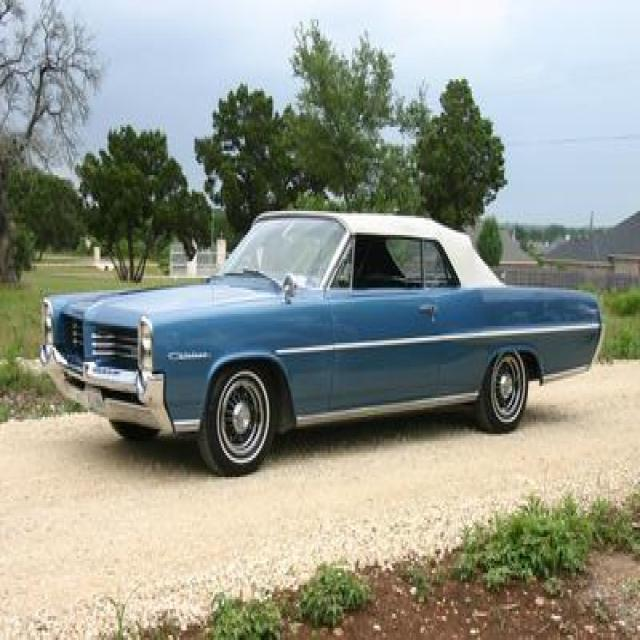car: (40, 207, 605, 481)
